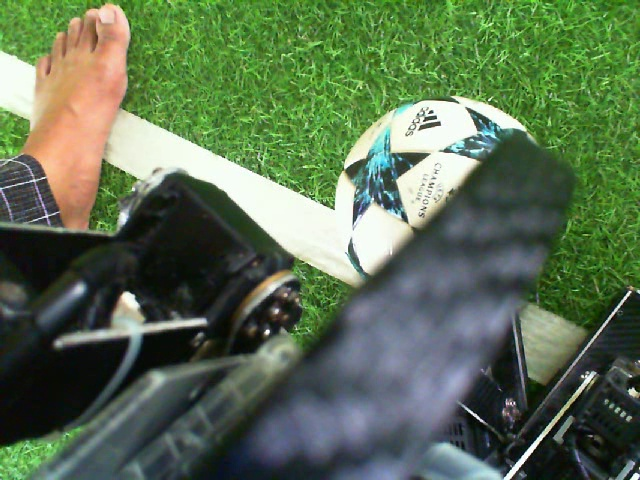ball: (333, 93, 538, 286)
